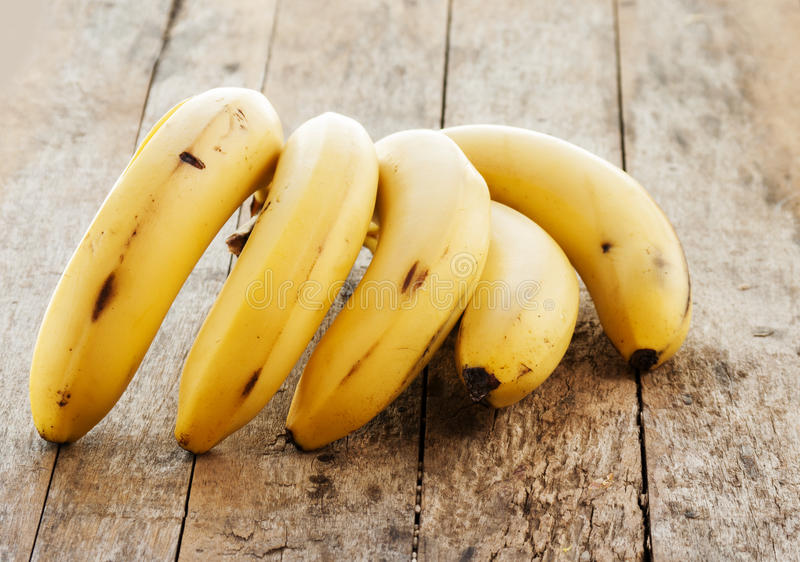looks_defective: (68, 52, 800, 562)
